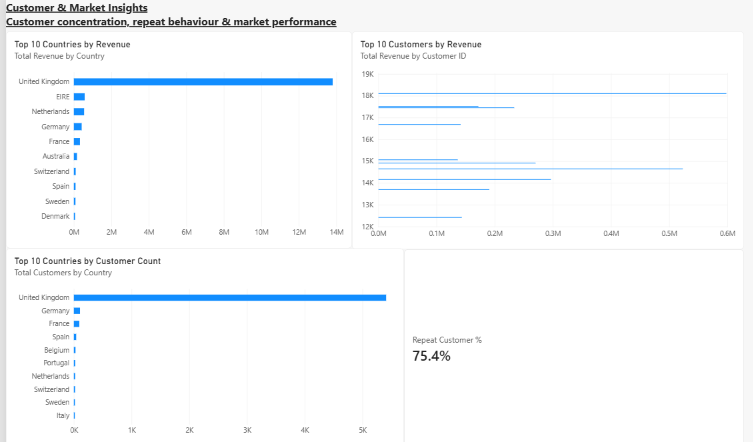

What the dashboard file says about the page in this screenshot:
{"tool":"powerbi","page":{"name":"Customer & Market Insights","canvas":[1920,1080],"ordinal":2},"visuals":[{"type":"clusteredBarChart","title":"Top 10 Customers by Revenue","fields":{"Category":["Sales.Customer ID"],"Y":["Sales.Total Revenue 2"]},"box":[692,64,784,436],"z":0},{"type":"clusteredBarChart","title":"Top 10 Countries by Revenue","fields":{"Category":["Sales.Country"],"Y":["Sales.Total Revenue 2"]},"box":[0,64,692,434],"z":1},{"type":"cardVisual","fields":{"Data":["Online_Retail.Repeat Customer %"]},"box":[796,500,680,398],"z":2},{"type":"textbox","box":[0,0,1920,64],"z":5},{"type":"clusteredBarChart","title":"Top 10 Countries by Customer Count","fields":{"Category":["Sales.Country"],"Y":["Sales.Total Customers"]},"box":[0,498,796,396],"z":6}]}

Visuals, with their boxes on the page's 1920x1080 design canvas (x1, y1, x2, y2). These are canvas units, not pixel positions in the 753x442 screenshot, which may show the page scaled, cropped or inside an application window:
"Top 10 Customers by Revenue" clusteredBarChart: l=692, t=64, r=1476, b=500
"Top 10 Countries by Revenue" clusteredBarChart: l=0, t=64, r=692, b=498
cardVisual - Online_Retail.Repeat Customer %: l=796, t=500, r=1476, b=898
textbox: l=0, t=0, r=1920, b=64
"Top 10 Countries by Customer Count" clusteredBarChart: l=0, t=498, r=796, b=894
